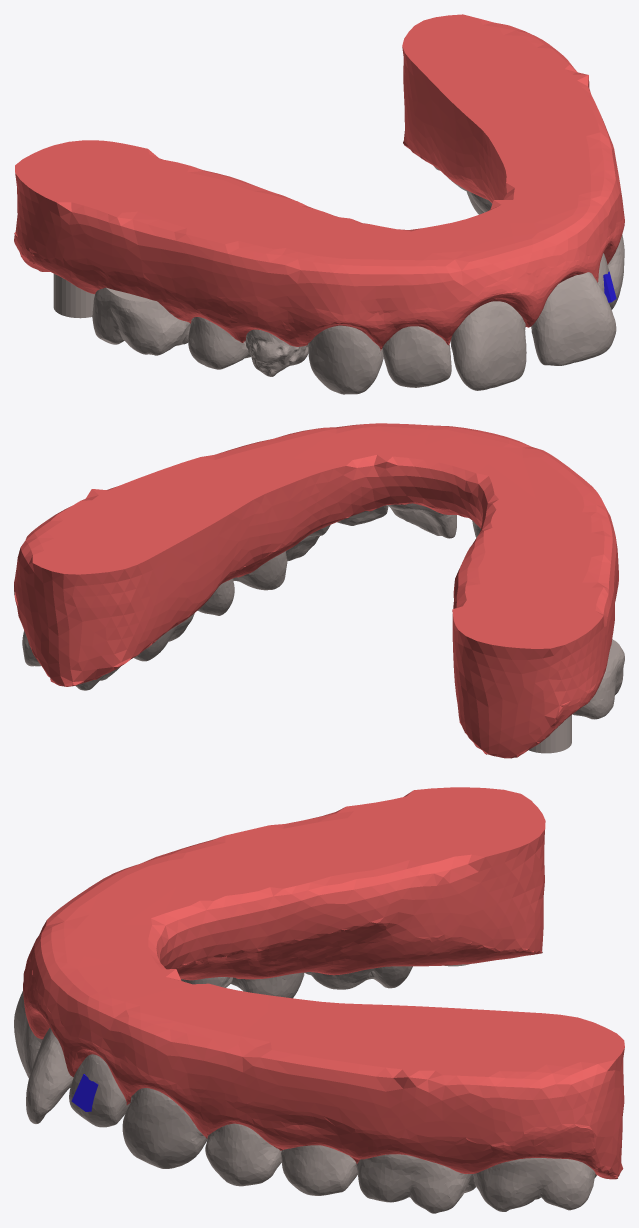
File: cmpupper_step_test.glb
The picture shows the model from 3 angles, top to bottom: view 1: azimuth 30°, elevation 25°; view 2: azimuth 150°, elevation 25°; view 3: azimuth 270°, elevation 25°; orthographic projection. The views are drawn at different scales.
Visible parts, largest first — view 1: uginj, 9, 8, 3, 6, 7, 4, 5, 2, 11; view 2: uginj, 3, 9, 12, 2, 13, 14, 15, 11, 10; view 3: uginj, 15, 14, 11, 12, 13, 10, 9, 3, 4, 8.
Part boxes in pixels (bbox=[...]): uginj: bbox=[14, 14, 624, 350]; 9: bbox=[531, 272, 616, 365]; 8: bbox=[450, 301, 526, 390]; 3: bbox=[92, 287, 190, 355]; 6: bbox=[308, 325, 383, 394]; 7: bbox=[382, 326, 451, 387]; 4: bbox=[188, 317, 250, 369]; 5: bbox=[245, 329, 308, 376]; 2: bbox=[53, 274, 94, 318]; 11: bbox=[608, 235, 624, 309]; uginj: bbox=[14, 423, 618, 758]; 3: bbox=[572, 639, 624, 719]; 9: bbox=[386, 503, 456, 538]; 12: bbox=[233, 551, 287, 590]; 2: bbox=[529, 715, 571, 753]; 13: bbox=[197, 578, 234, 615]; 14: bbox=[133, 613, 194, 661]; 15: bbox=[22, 630, 120, 690]; 11: bbox=[286, 525, 330, 561]; 10: bbox=[337, 505, 388, 525]; uginj: bbox=[23, 787, 624, 1179]; 15: bbox=[473, 1158, 596, 1211]; 14: bbox=[356, 1154, 475, 1213]; 11: bbox=[122, 1088, 207, 1168]; 12: bbox=[205, 1123, 281, 1186]; 13: bbox=[281, 1145, 357, 1195]; 10: bbox=[69, 1054, 130, 1127]; 9: bbox=[26, 1028, 73, 1123]; 3: bbox=[304, 966, 412, 989]; 4: bbox=[231, 972, 304, 998]; 8: bbox=[14, 991, 42, 1077].
Size of the model in its own units: 61.26 by 15.13 by 53.02.
